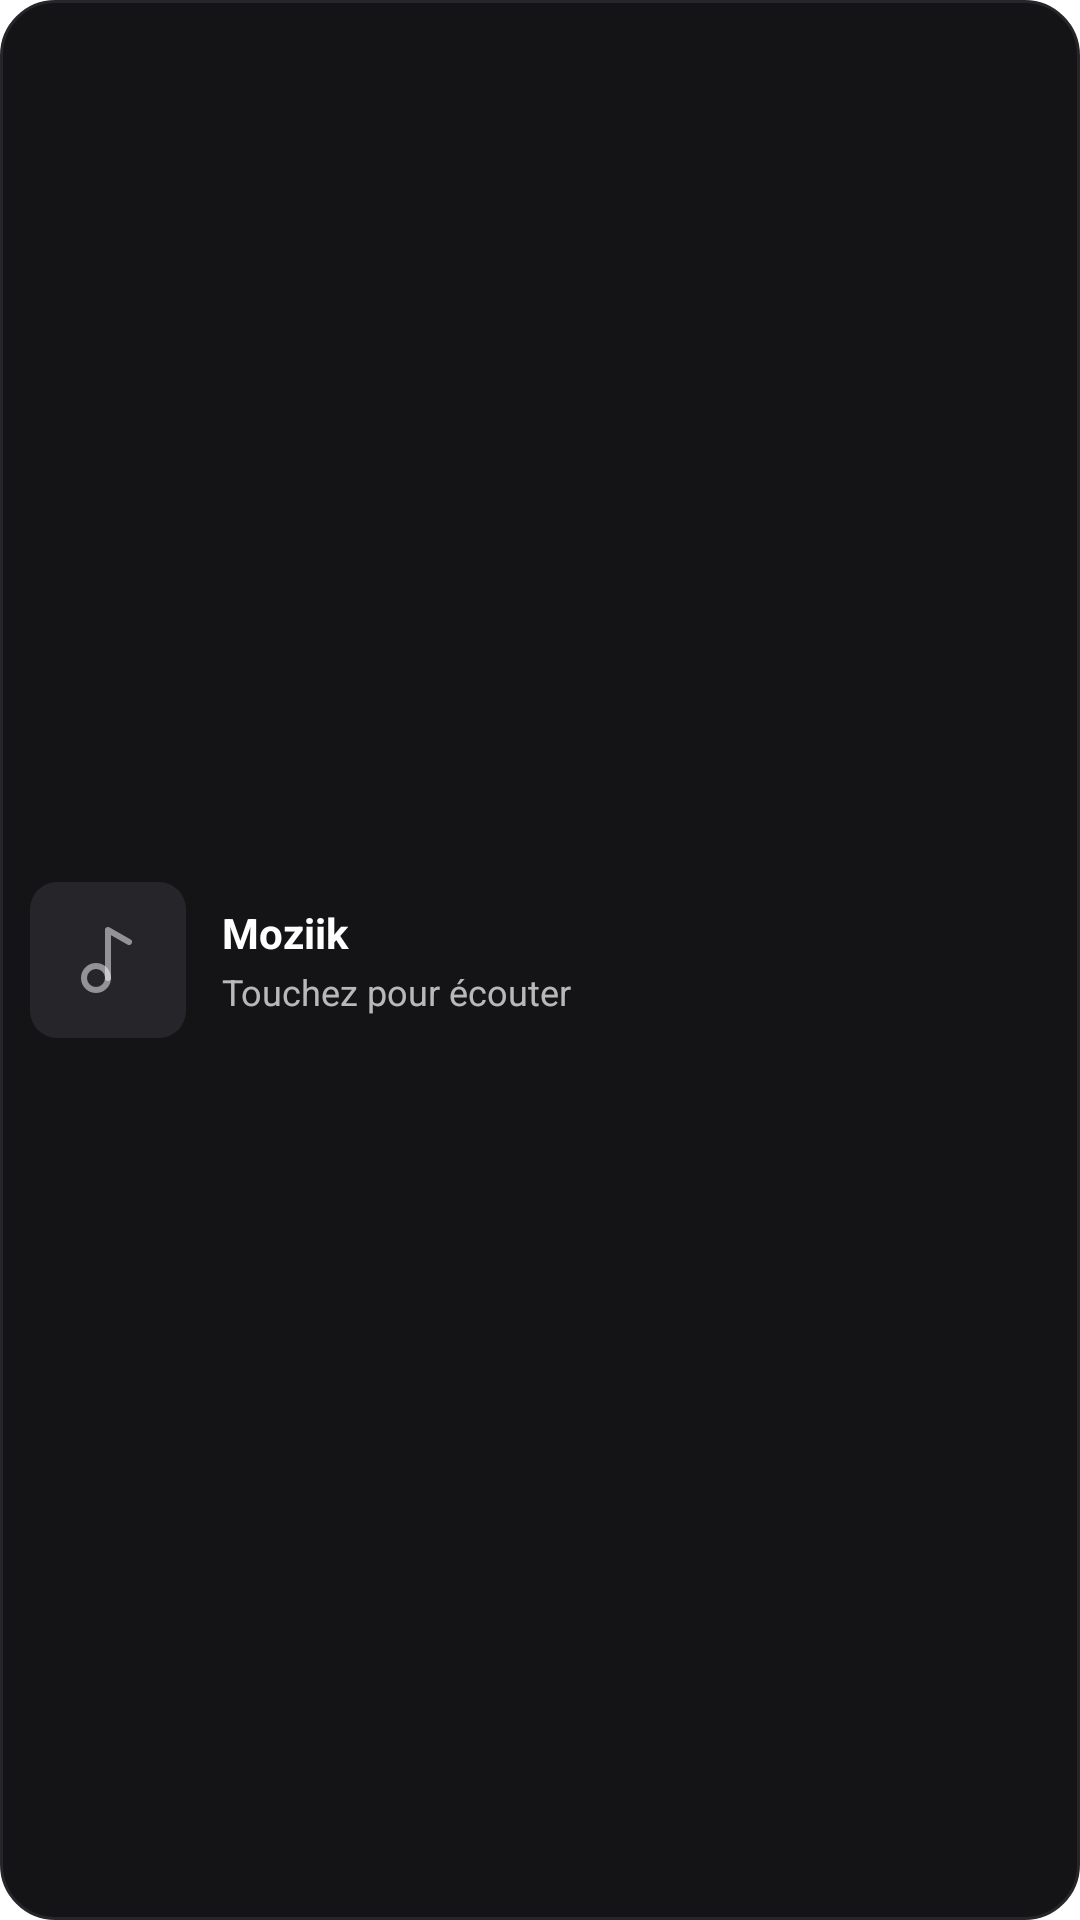

Icons on this 1080 x 1920 Android screen, each with the point to tap as (x,y):
gadget pochette vide: (108,960)
